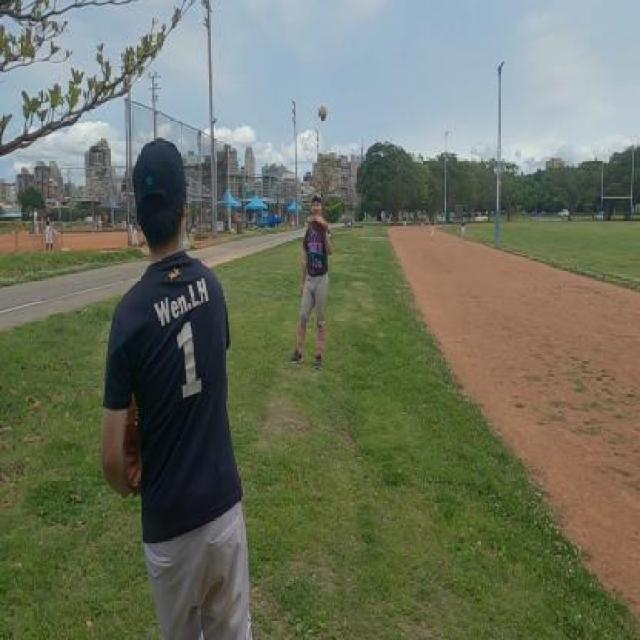baseball: (318, 105, 327, 122)
